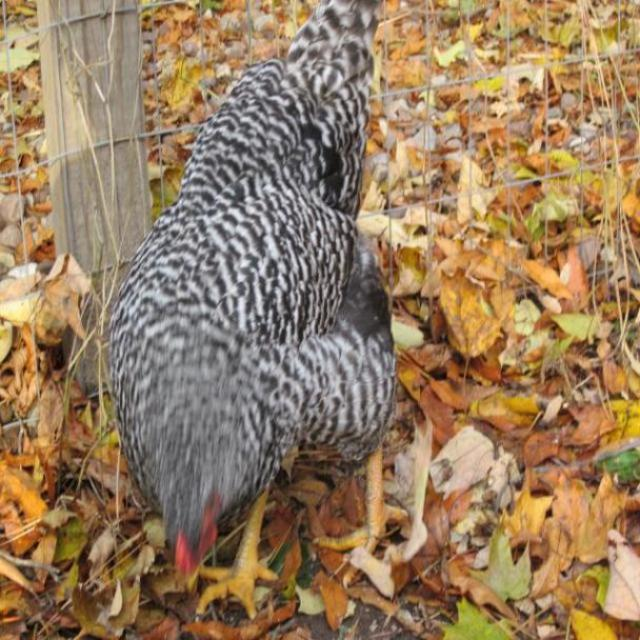Chicken: (114, 1, 407, 608)
